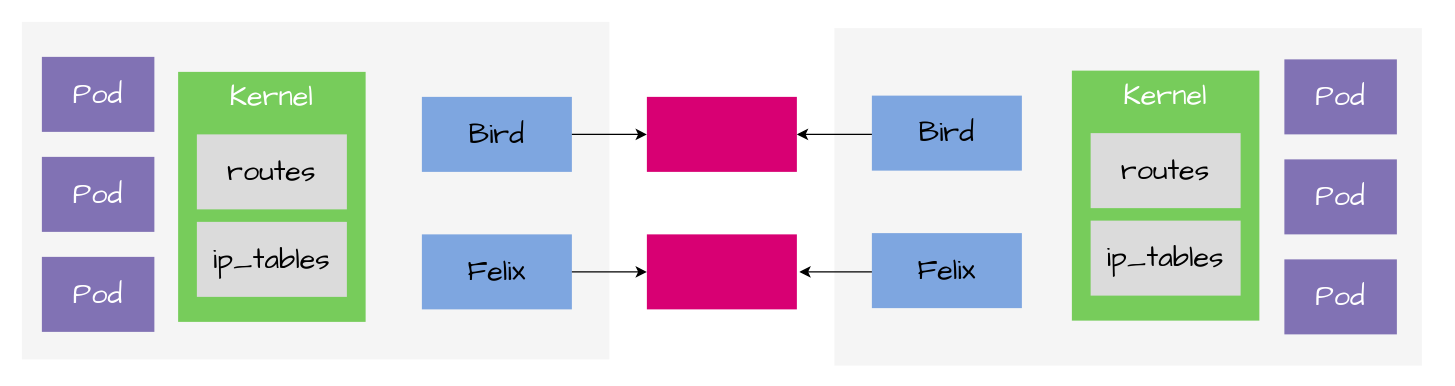
The diagram is 1455 pixels wide and 386 high, and some of its shapes have lost their labels. The shapes that lost their labels are listed below. From the top down, each one's centre as x and y in pixels, then its label:
(721,133): Route Reflector
(721,271): etcd
